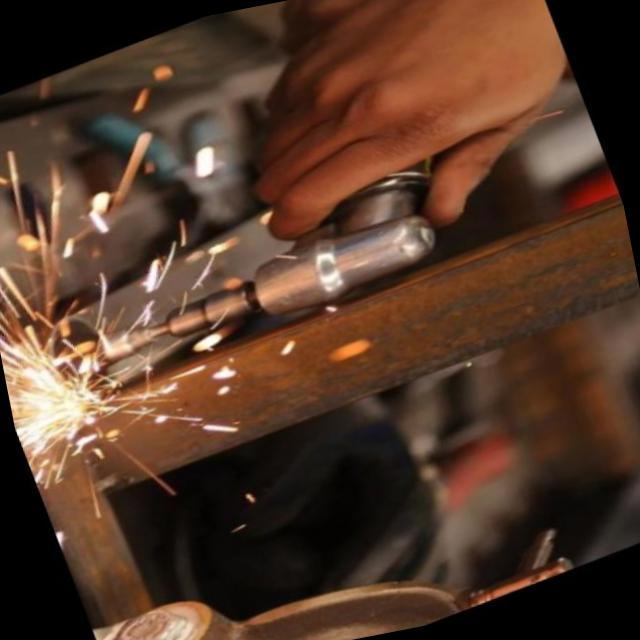not-gloved: (185, 0, 618, 294)
